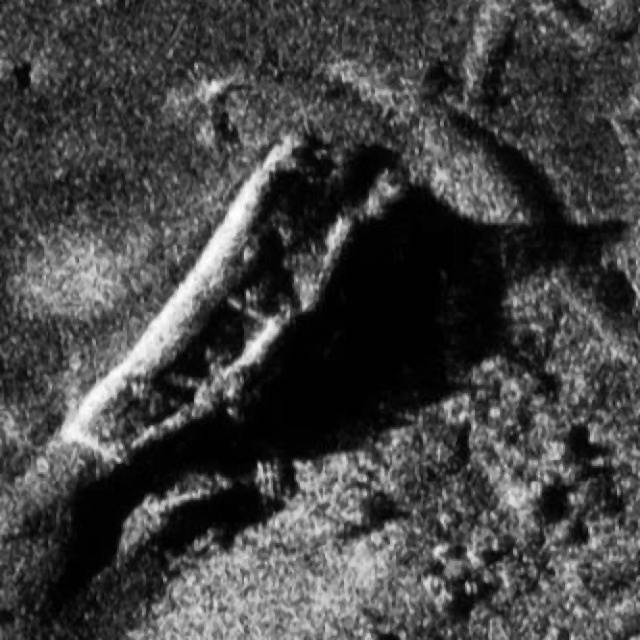Ship: (27, 121, 414, 474)
